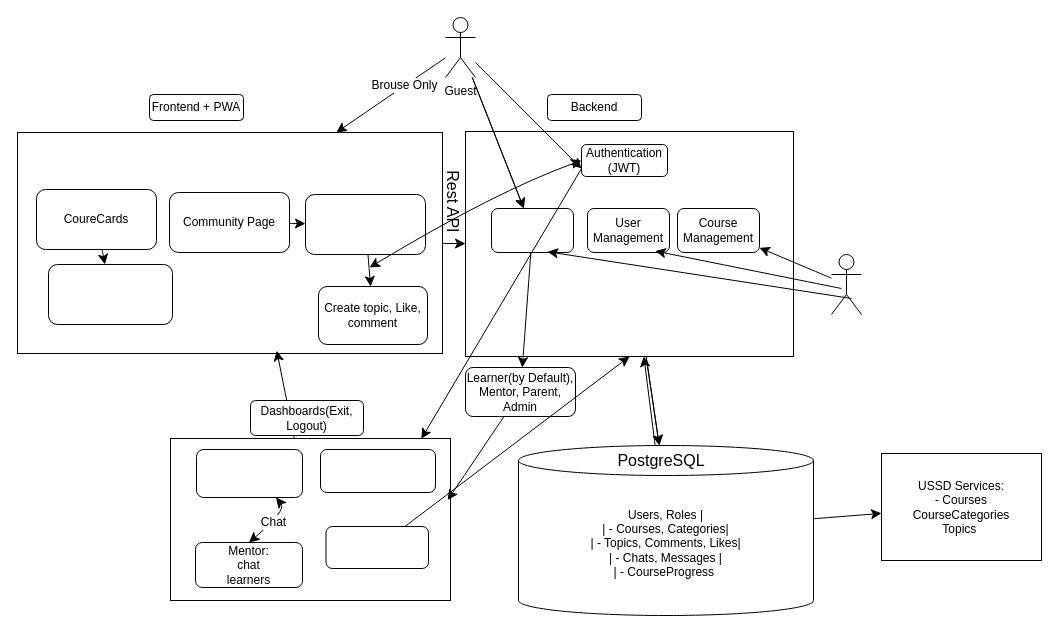
Image size: 1059x633. Some labels were removed from this diagram. The centre of each missing label's shape, as x and y in pixels:
Admin: (846,284)
Admin: Platform Management: (376,547)
CourseList: (110,294)
Learner: - Course Progress Mentors Available: (249,473)
Parent: -community - awareness: (378,470)
Role Management: (532,230)
View Topics: - Comments - Likes: (365,224)
